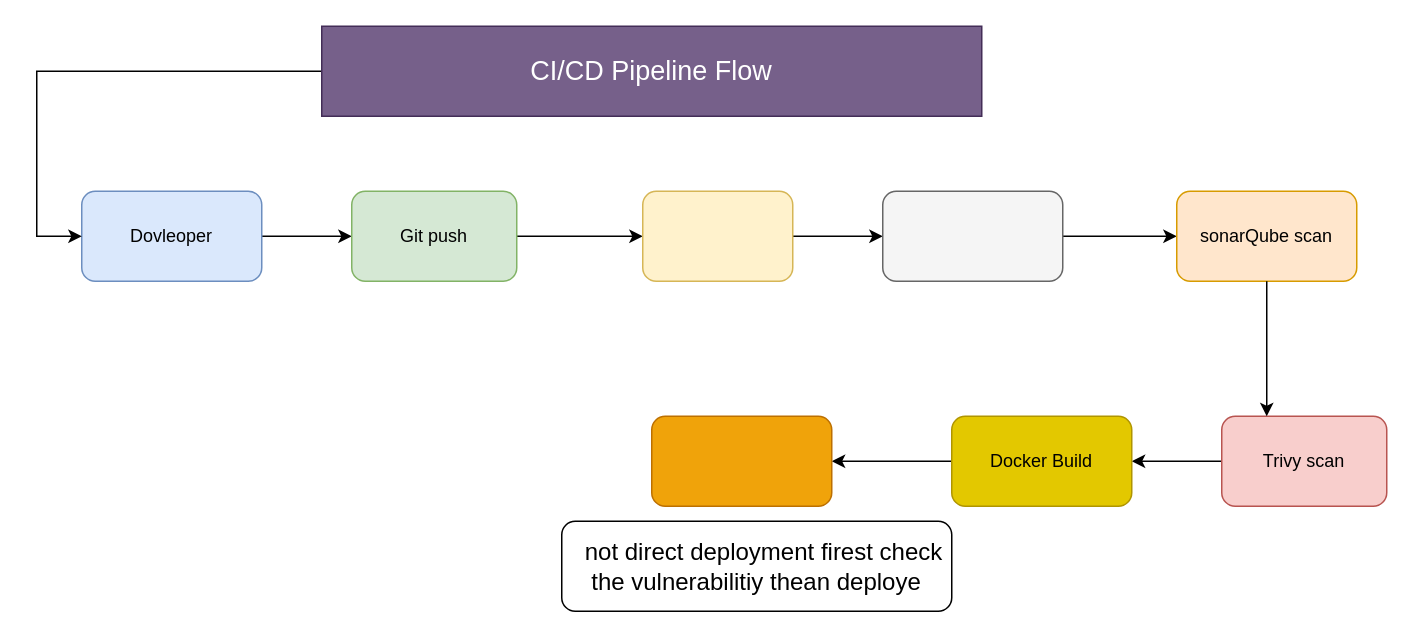
Some shapes in this 1413 by 638 pixel diagram are drawn without their labels. Each missing label, with the box of its shape:
Build: (881, 190, 1063, 281)
Deploy to server/ kubernetes: (650, 415, 832, 506)
jenkins pipeline: (641, 190, 793, 281)
